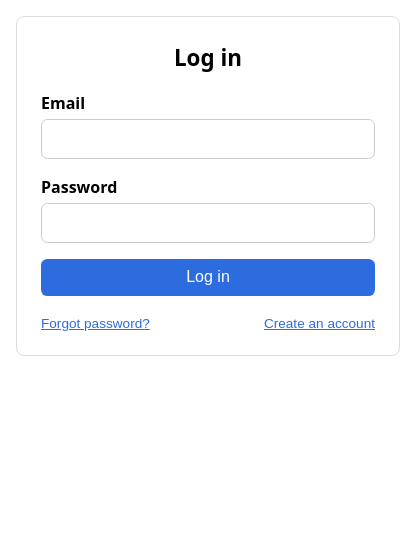
Test: shows an error when resending the verification email fails
In the field labelled "Email": (208, 139) 41,119 -> 375,159, type "me@example.com"
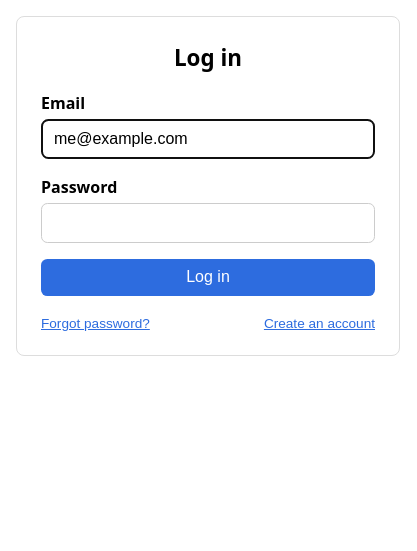
In the password field labelled "Password": (208, 223) 41,203 -> 375,243, type "longpassword1"
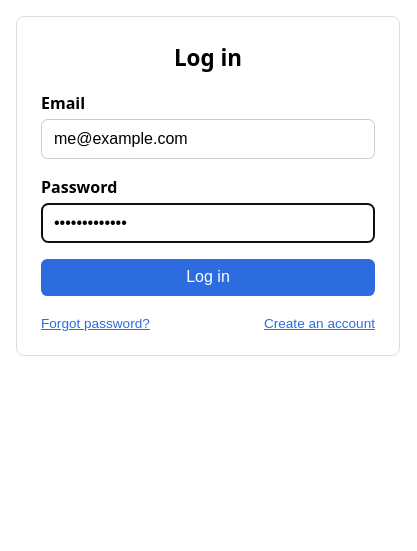
Click the button "Log in": click(208, 277) 41,259 -> 375,296
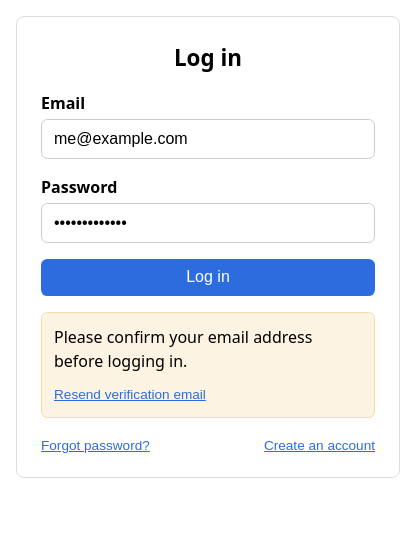
Click the button "Resend verification email": click(130, 394) 54,387 -> 206,402
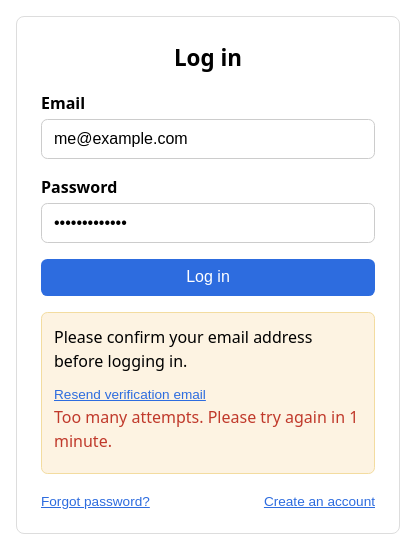
Check: the button "Resend verification email" is enabled, box 54,387 -> 206,402
Check: the text "Too many attempts. Please try again in 1 minute." is shown, box 54,405 -> 362,453
